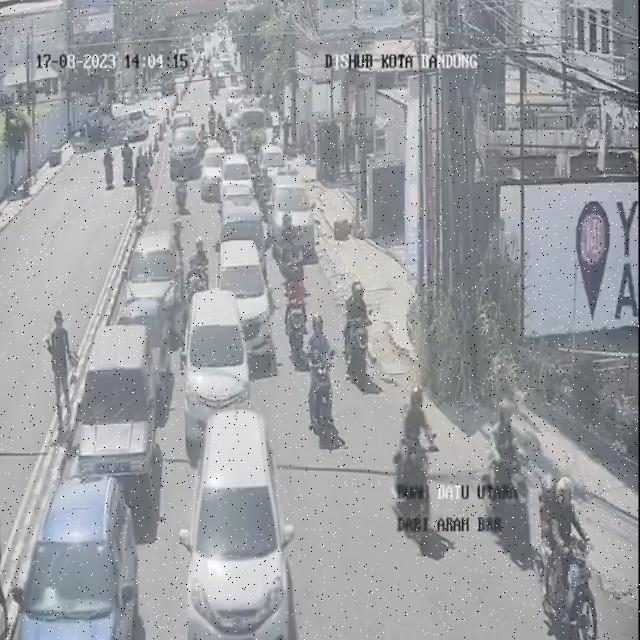cars: (190, 410, 299, 640), (18, 470, 144, 640), (72, 322, 160, 516), (179, 287, 249, 453), (220, 238, 275, 355), (131, 228, 187, 322), (124, 297, 172, 401), (222, 195, 270, 280), (272, 171, 311, 245), (170, 114, 200, 180), (219, 152, 253, 209), (238, 100, 268, 160), (260, 138, 286, 189), (203, 143, 227, 198)
motorcycle: (482, 398, 538, 560), (531, 476, 593, 620), (388, 392, 432, 548), (306, 314, 341, 439), (344, 280, 374, 391), (286, 267, 311, 356), (280, 217, 302, 290), (186, 231, 210, 296), (173, 152, 189, 215)
